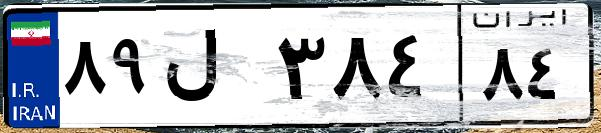3: (270, 28, 330, 110)
4: (385, 28, 445, 110), (525, 38, 570, 115)
8: (330, 28, 385, 110), (57, 26, 110, 100), (475, 38, 525, 113)
9: (110, 28, 158, 98)
ل: (158, 20, 270, 120)
